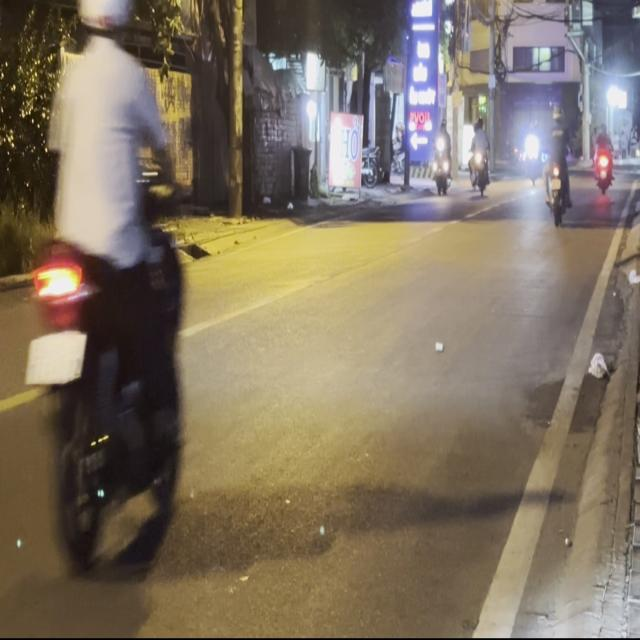helmet: (75, 0, 132, 49)
licenseplate: (18, 0, 196, 584)
nohelmet: (25, 331, 85, 382)
